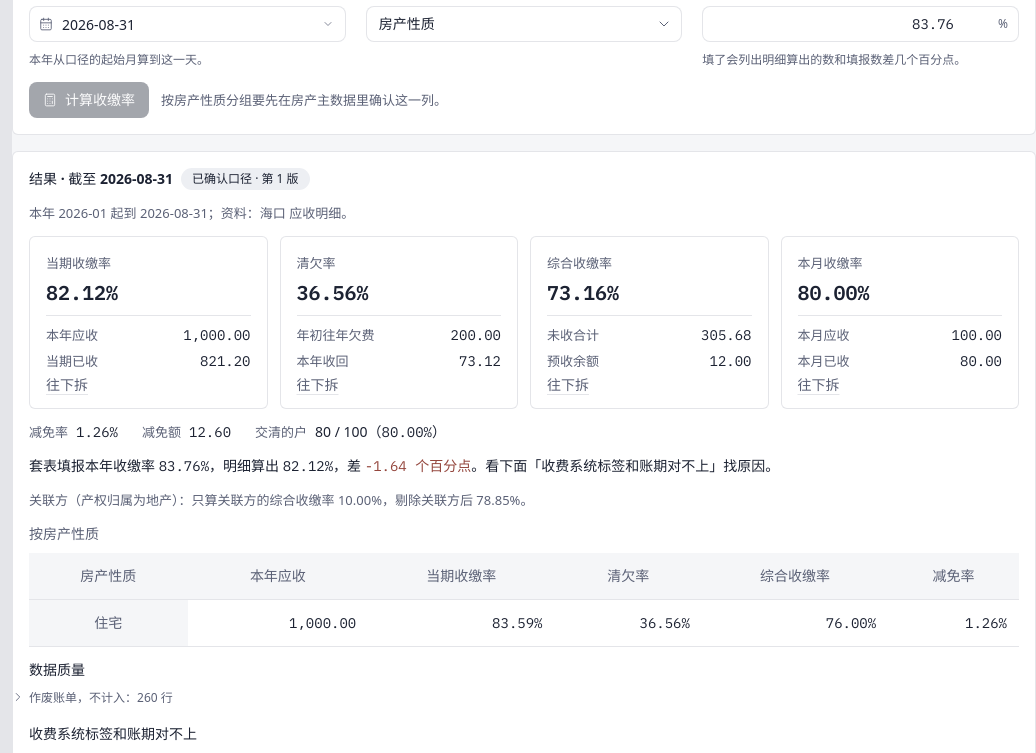
Test case: marks a level that does not add up to the row above it
(page scrolled)
Click the button with aria-label "往下拆清欠率": point(318, 385) [296,378,338,392]
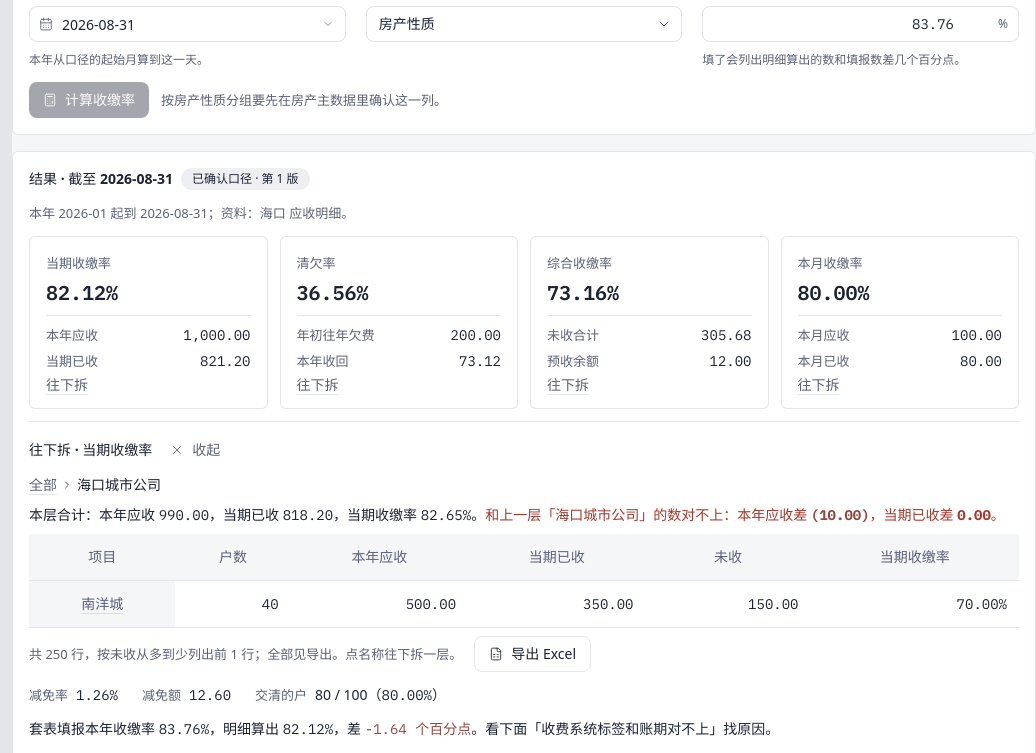
Expected: the text "和上一层「海口城市公司」的数对不上" shows "本年应收差 (10.00)", [485,505,1005,524]
